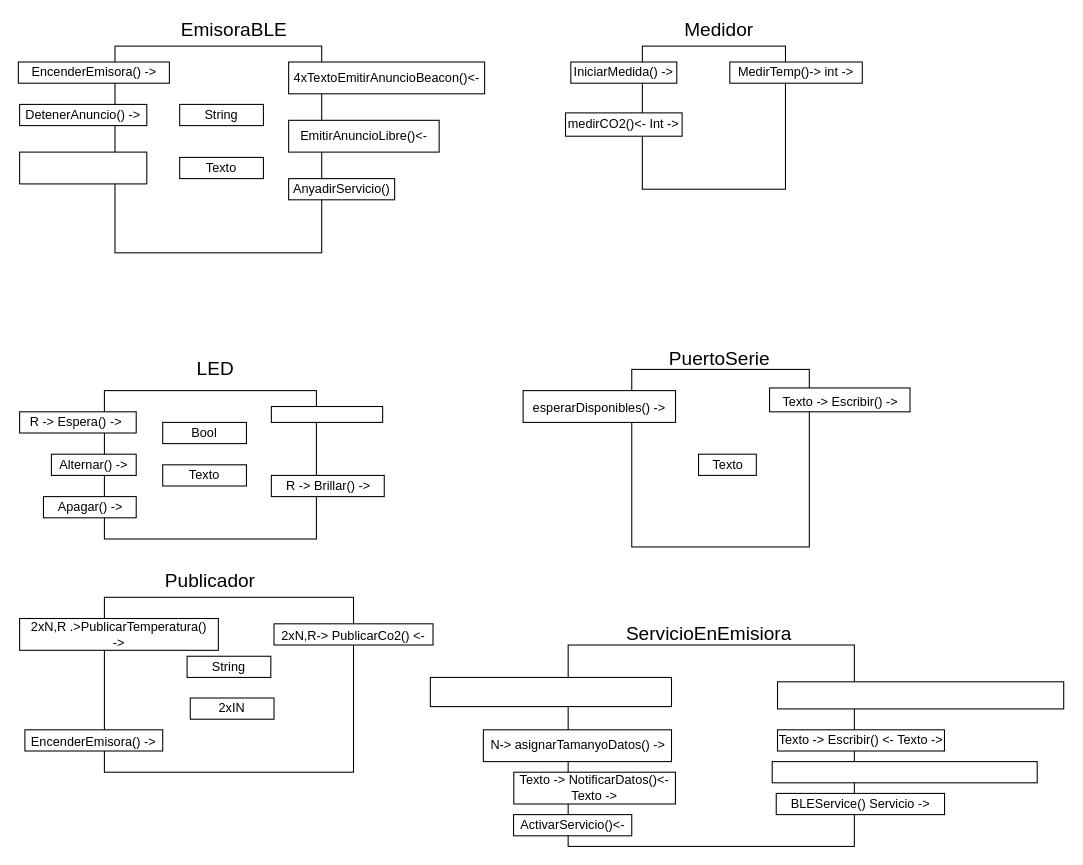
Some shapes in this 1083 by 865 pixel diagram are drawn without their labels. The centre of each missing label's shape, as x and y in pixels:
"2xN,Texto -> stringAUint8AlReves() -> int" goes at [550,691].
"Caracteristicas -> anyadirCaracteristica()<-" goes at [904,772].
"Encender() ->" goes at [326,413].
"EstaAnunciado() <- Bool ->" goes at [83,167].
"Texto,int,2xSecurity -> asignarTamanyoDatos()<-" goes at [920,695].
